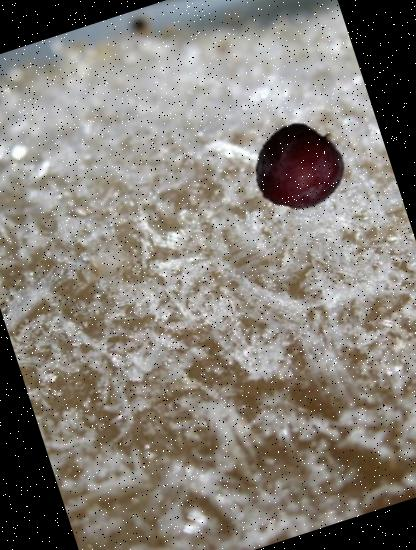Plum: (240, 108, 357, 225)
